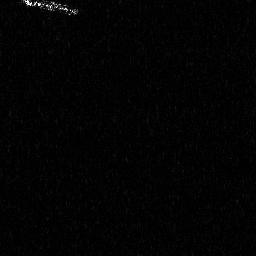ship: (22, 1, 79, 16)
